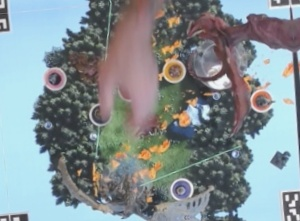blue: (85, 101, 112, 127)
orange: (245, 85, 278, 115)
pink: (41, 63, 69, 93)
red: (113, 77, 140, 103)
violet: (166, 172, 199, 201)
yellow: (159, 55, 188, 82)
